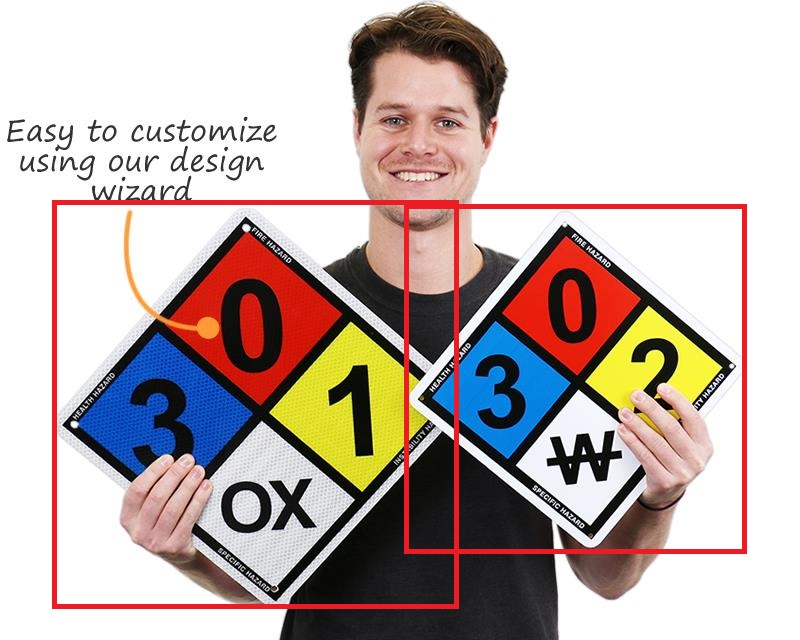nfpa: (54, 206, 464, 608), (408, 211, 747, 548)
